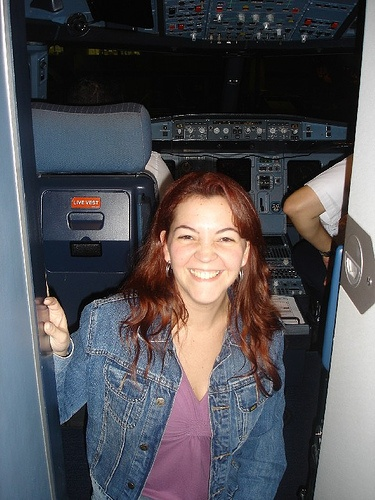head: (156, 174, 256, 308)
person: (35, 170, 294, 499), (281, 155, 351, 305)
